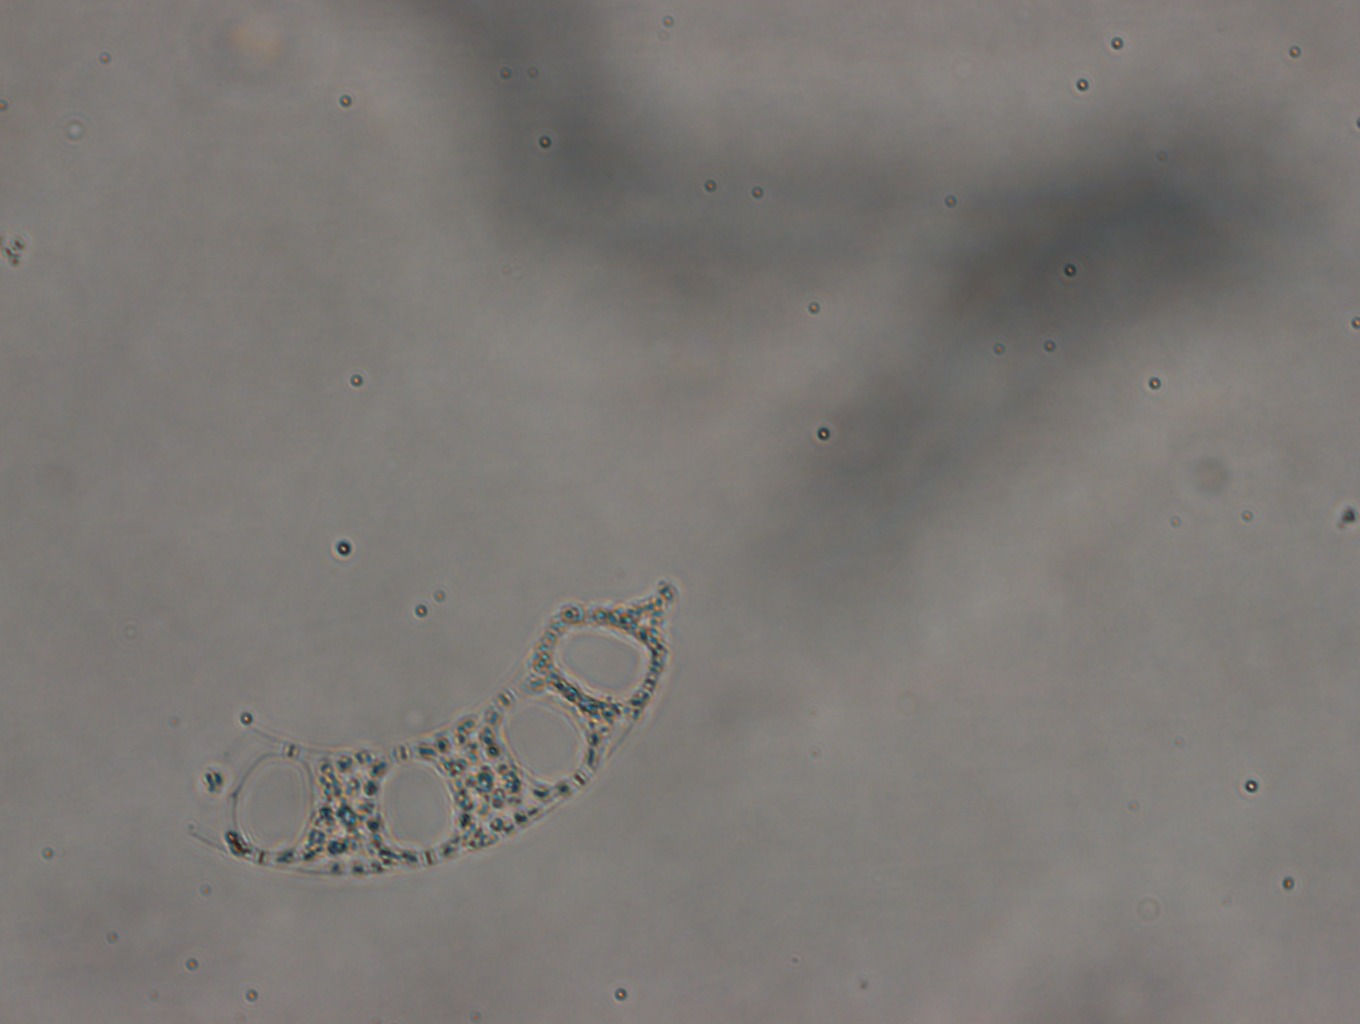eucampia: (190, 578, 679, 876)
